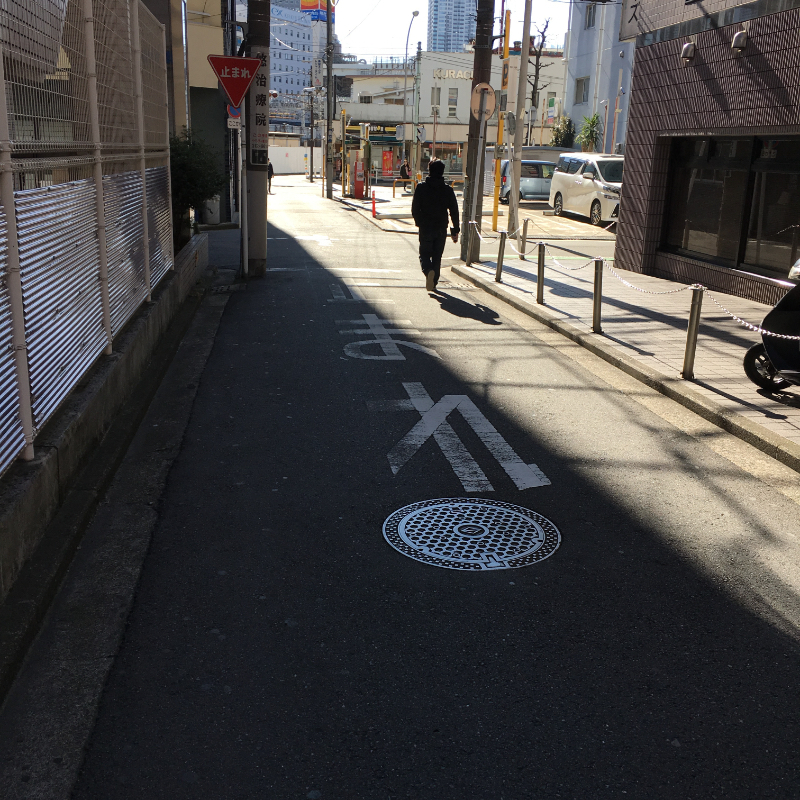STOP: (206, 53, 264, 107)
